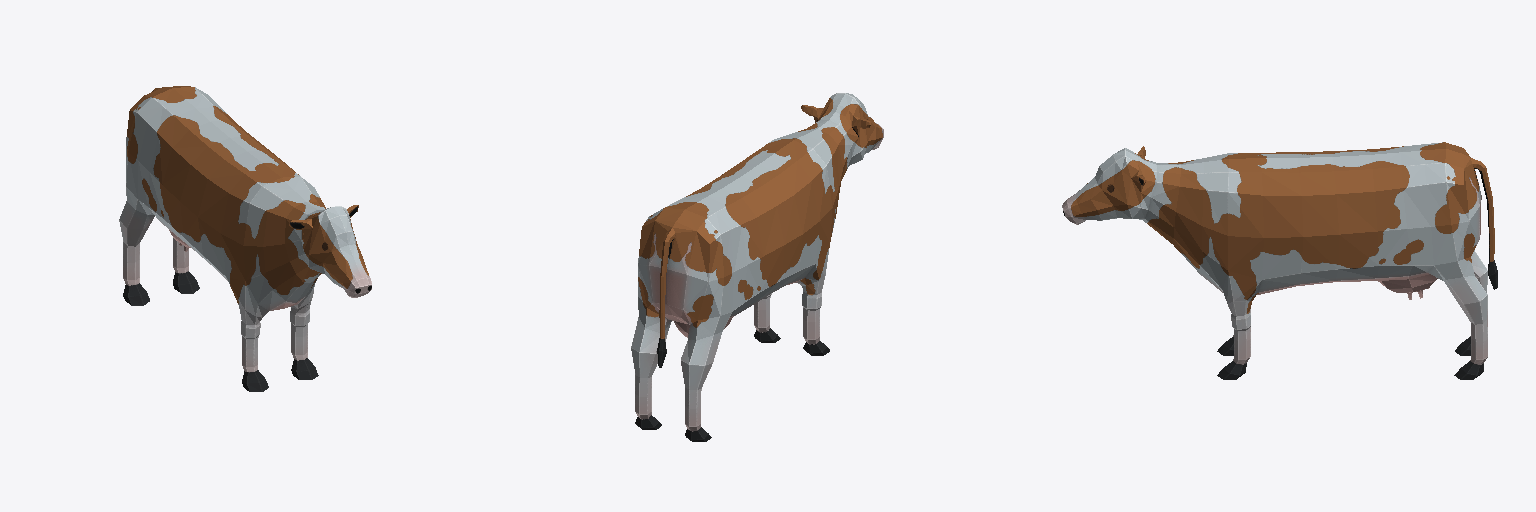
3 renders of one model, left to right at view 1: azimuth 30°, elevation 25°; view 2: azimuth 150°, elevation 25°; view 3: azimuth 270°, elevation 25°, orthographic.
Parts seen in each view (by area): view 1: Cow_mesh; view 2: Cow_mesh; view 3: Cow_mesh.
Part boxes in pixels (x1,y1,x2,y2): Cow_mesh: (119,86,371,391); Cow_mesh: (631,93,883,441); Cow_mesh: (1062,142,1497,379).
Size of the model in its own units: 3.36 by 7.42 by 13.65.
1 materials, 1 textured.